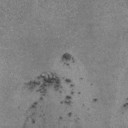iron sheet ash: (29, 72, 61, 94), (62, 52, 75, 62), (32, 102, 37, 109), (123, 101, 128, 107), (68, 112, 72, 118), (66, 78, 70, 83), (94, 98, 98, 103), (66, 96, 71, 99)
